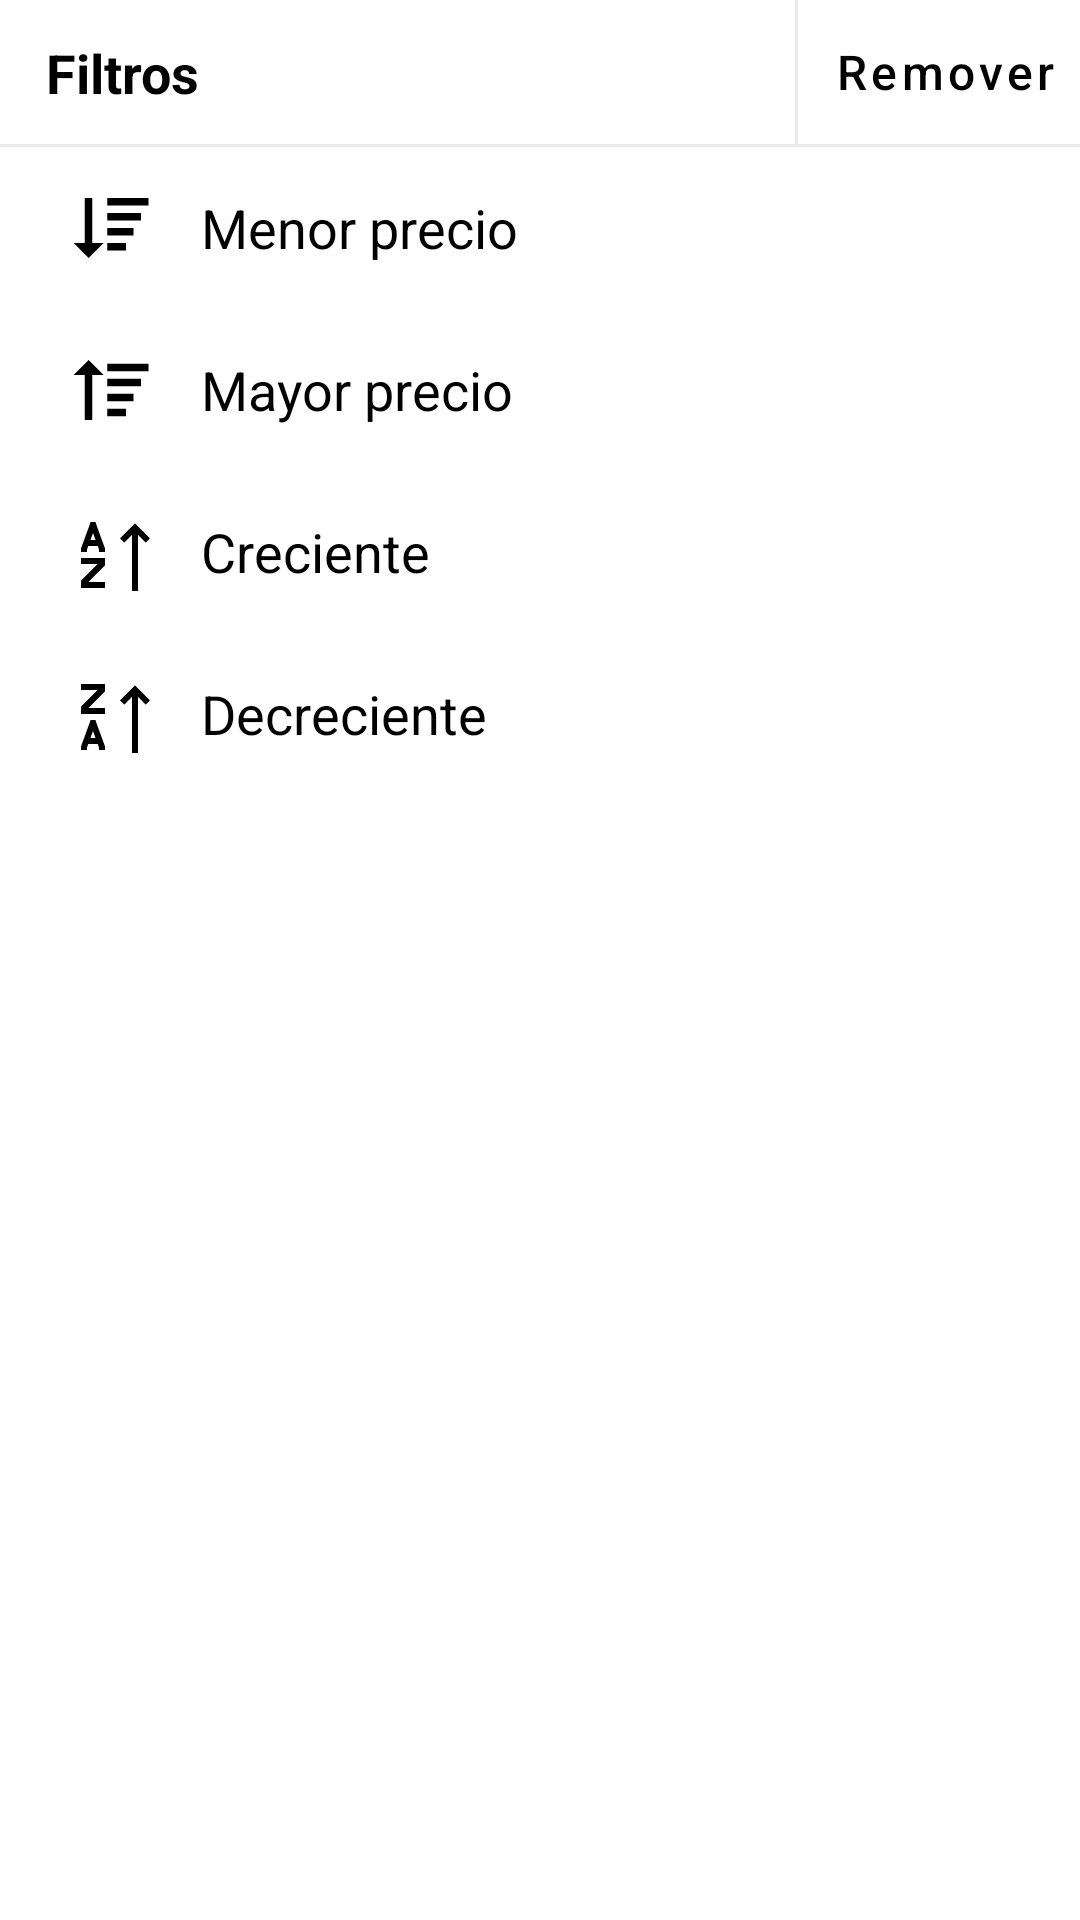

Icons on this 1080px×1920px Android screen, each with the point to tap as (x,y):
dec: (115,718)
